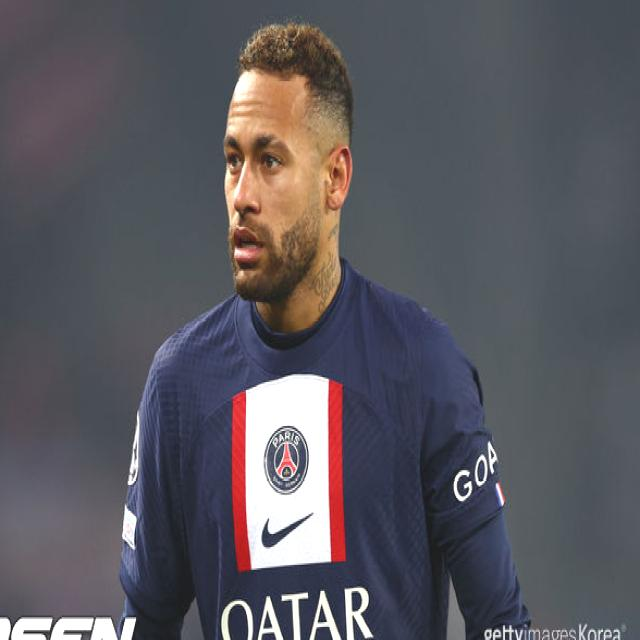neymar: (222, 27, 363, 303)
